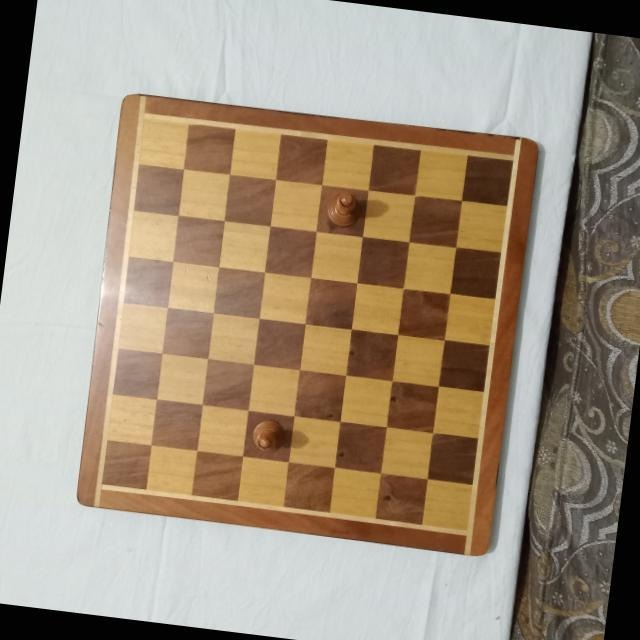white-bishop: (324, 186, 363, 227), (249, 415, 287, 453)
